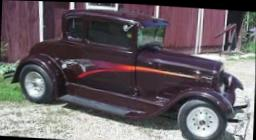Door: (47, 53, 100, 83)
